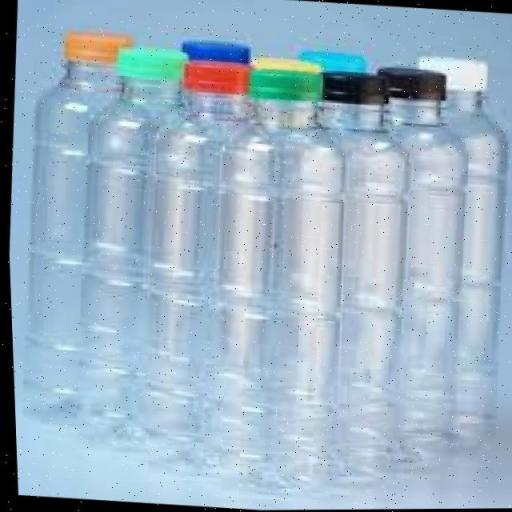plastic: (31, 33, 206, 434), (202, 52, 358, 488), (130, 56, 279, 474), (292, 64, 432, 494), (372, 45, 512, 465), (341, 58, 485, 464), (6, 16, 145, 410)
